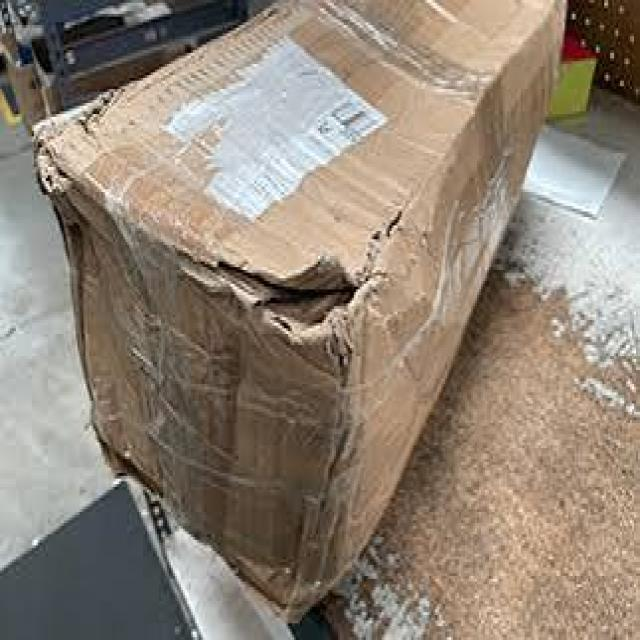carton_box: (31, 0, 586, 634), (33, 80, 434, 633)
